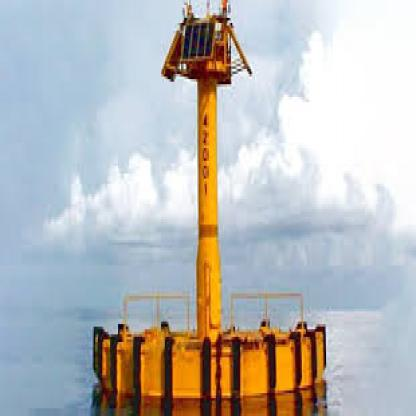buoy: (80, 8, 336, 414)
